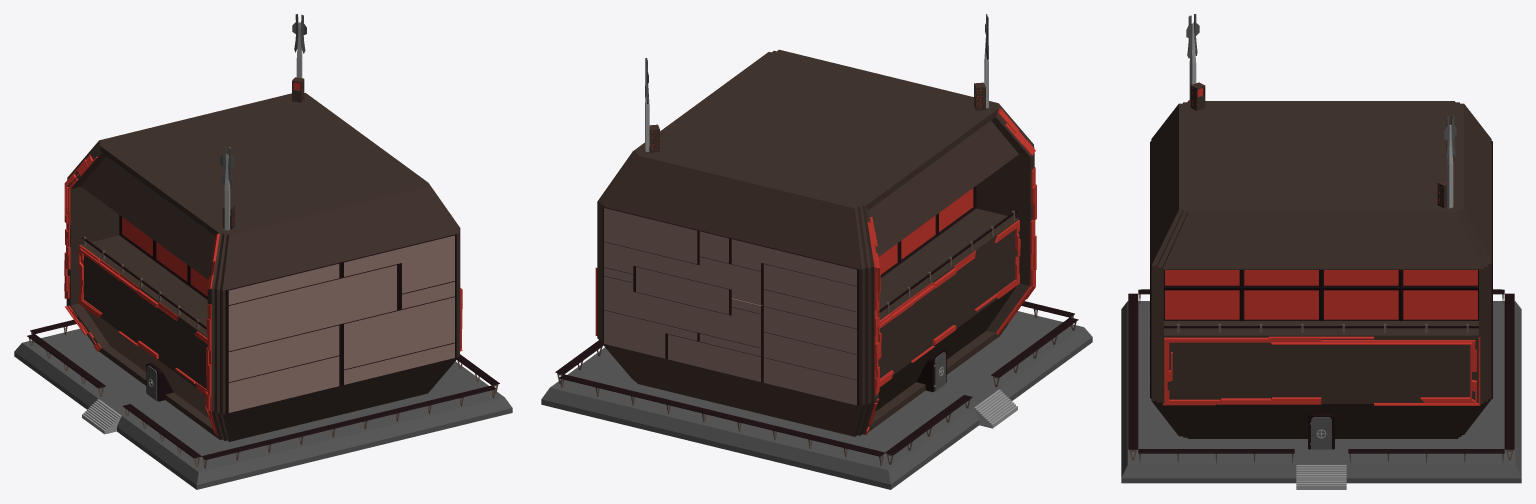
Rendered from Building_07.fbx.
3 views of the same model, side by side, from view 1: azimuth 30°, elevation 25°; view 2: azimuth 150°, elevation 25°; view 3: azimuth 270°, elevation 25° (orthographic). The views are drawn at different scales.
Parts seen in each view (by area): view 1: Building_07_Base, Building_07_Windows, Building_07_Floor, Building_07_Details, Building_07_UpperDetails, Building_07_Doors; view 2: Building_07_Base, Building_07_Windows, Building_07_Floor, Building_07_Details, Building_07_UpperDetails, Building_07_Doors; view 3: Building_07_Base, Building_07_Floor, Building_07_Windows, Building_07_Details, Building_07_UpperDetails, Building_07_Doors.
Boxes of the visible parts, x1,y1,x2,y2 form: Building_07_Base: (66,93,460,441); Building_07_Windows: (119,215,456,413); Building_07_Floor: (14,319,512,489); Building_07_Details: (64,154,462,436); Building_07_UpperDetails: (220,14,306,230); Building_07_Doors: (146,362,173,401); Building_07_Base: (597,49,1034,436); Building_07_Windows: (603,186,976,405); Building_07_Floor: (541,301,1092,489); Building_07_Details: (595,108,1036,434); Building_07_UpperDetails: (645,14,988,152); Building_07_Doors: (916,349,946,392); Building_07_Base: (1151,101,1491,438); Building_07_Floor: (1121,289,1521,489); Building_07_Windows: (1150,141,1492,398); Building_07_Details: (1162,100,1480,405); Building_07_UpperDetails: (1186,14,1456,208); Building_07_Doors: (1308,413,1334,449).
Size of the model in its own units: 2039 by 1741 by 1893.
